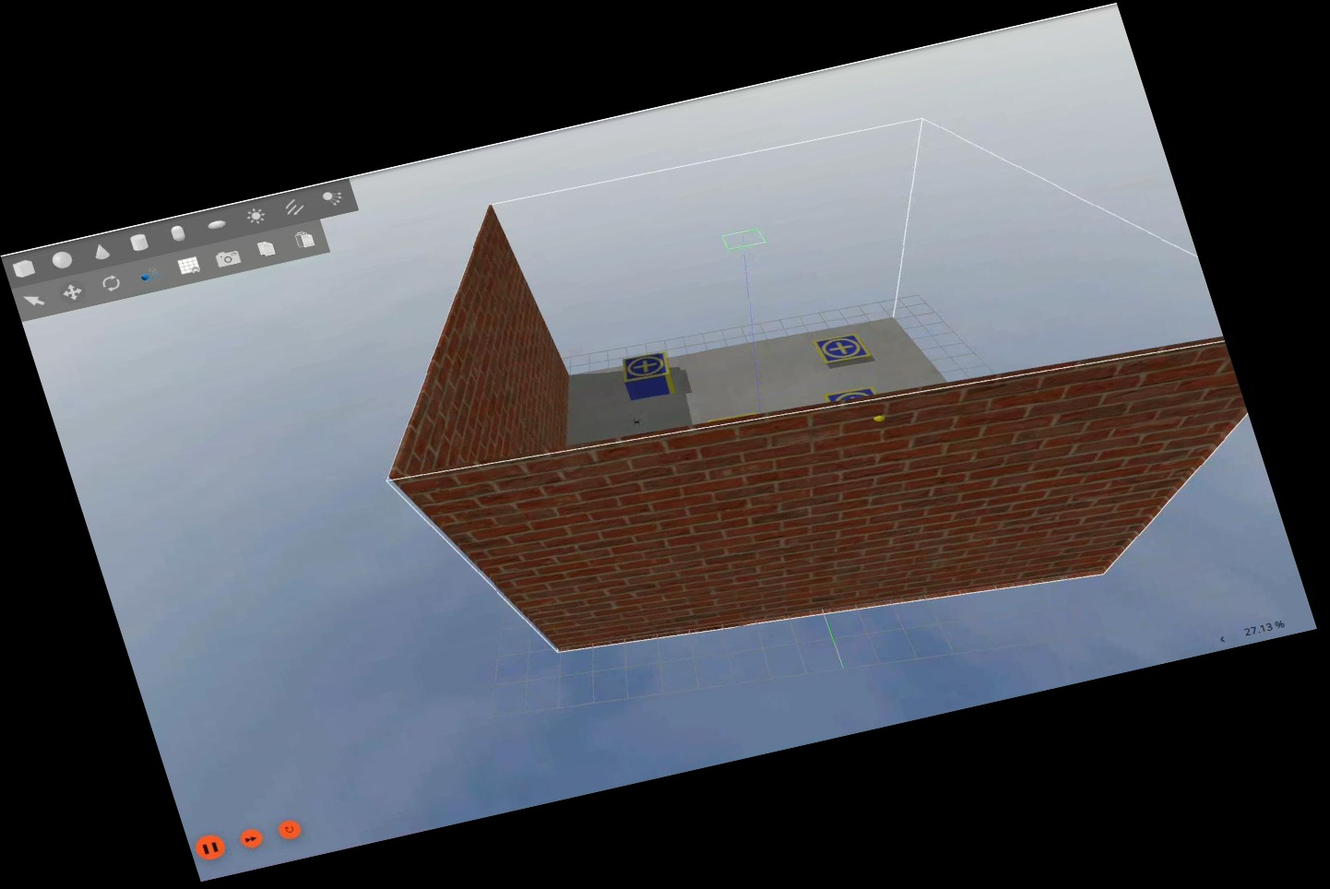small_base: (812, 327, 874, 370), (617, 347, 675, 385), (824, 383, 879, 407)
